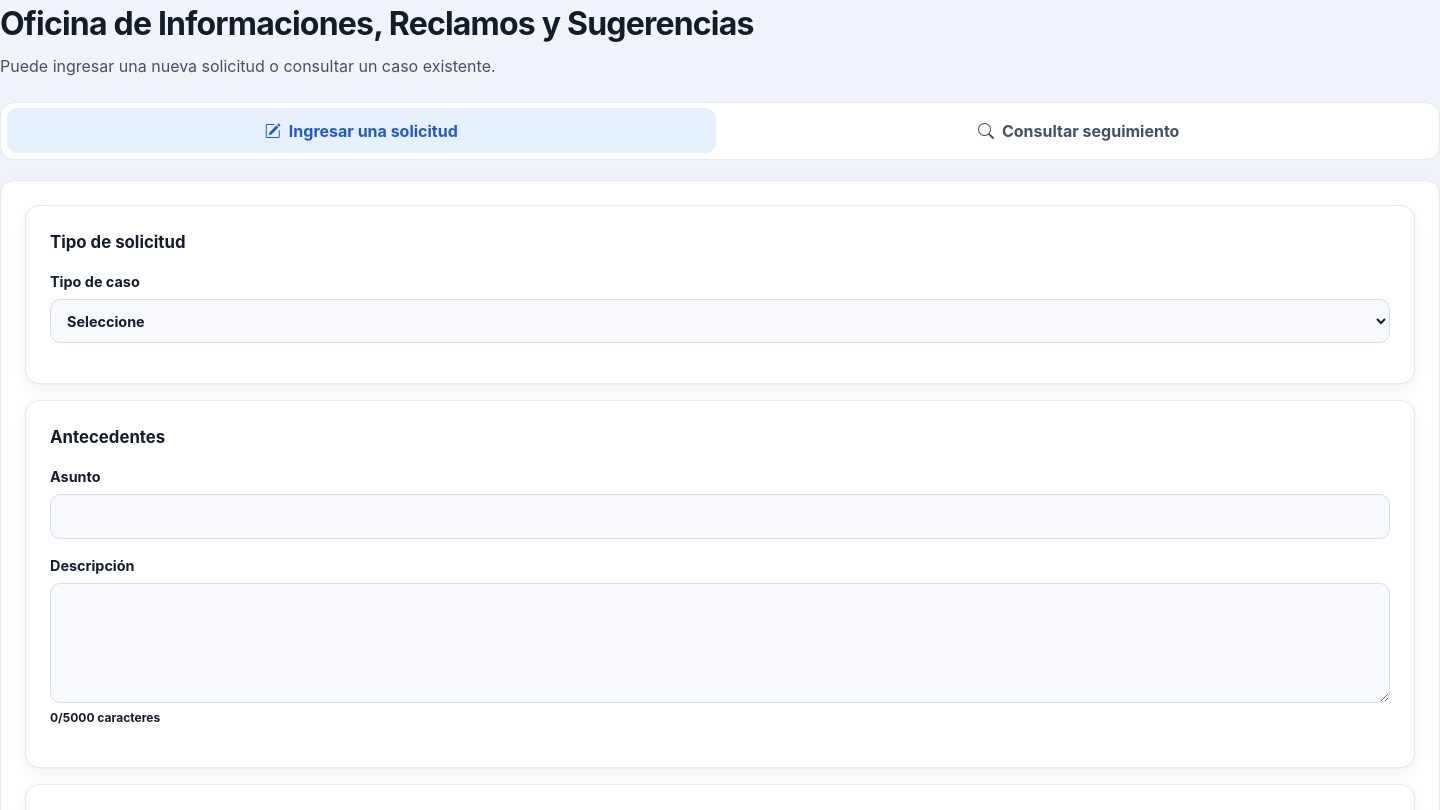
Test case: OirsPage - public › muestra error al fallar envio OIRS
Select "Reclamo" in the dropdown labelled "Tipo de caso" at (720, 321), box [50,299,1390,343]
Type "Asunto de prueba valido" into the field labelled "Asunto" at (720, 516), box [50,494,1390,539]
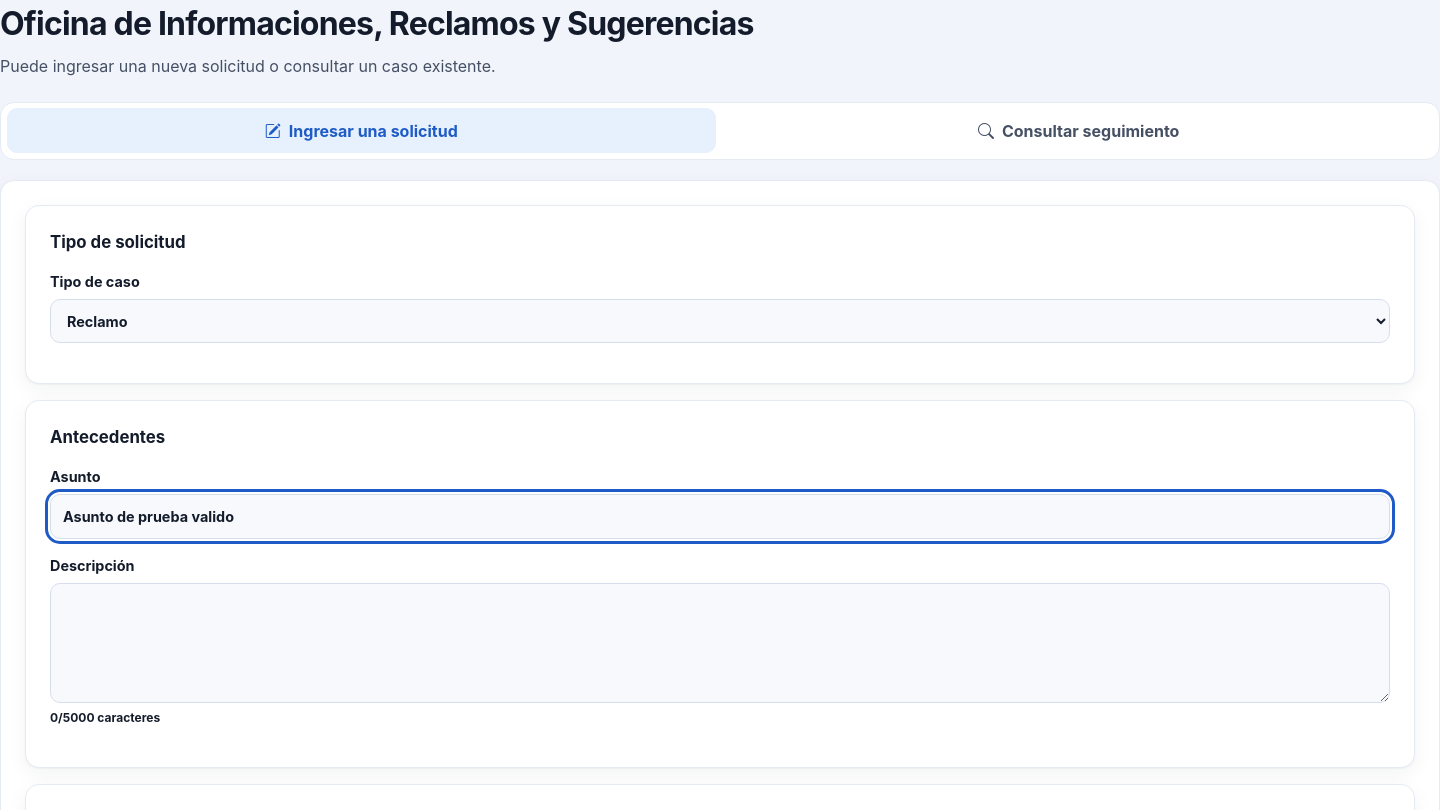
Type "Descripcion detallada de mi reclamo con mas de veinte caracteres" into the text box labelled "Descripción" at (720, 643), box [50,583,1390,703]
(page scrolled)
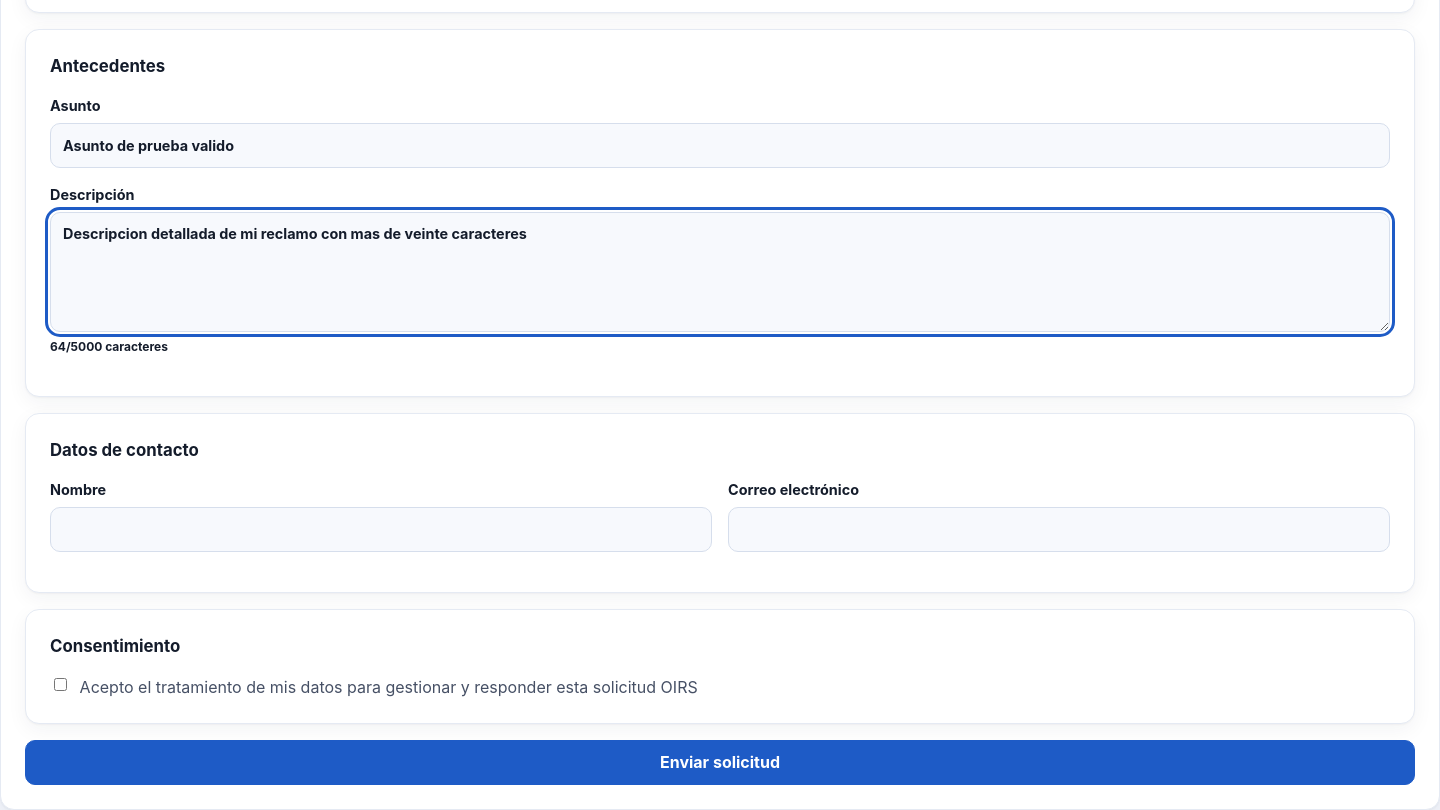
Type "Usuario QA" into the field labelled "Nombre" at (381, 530), box [50,507,712,552]
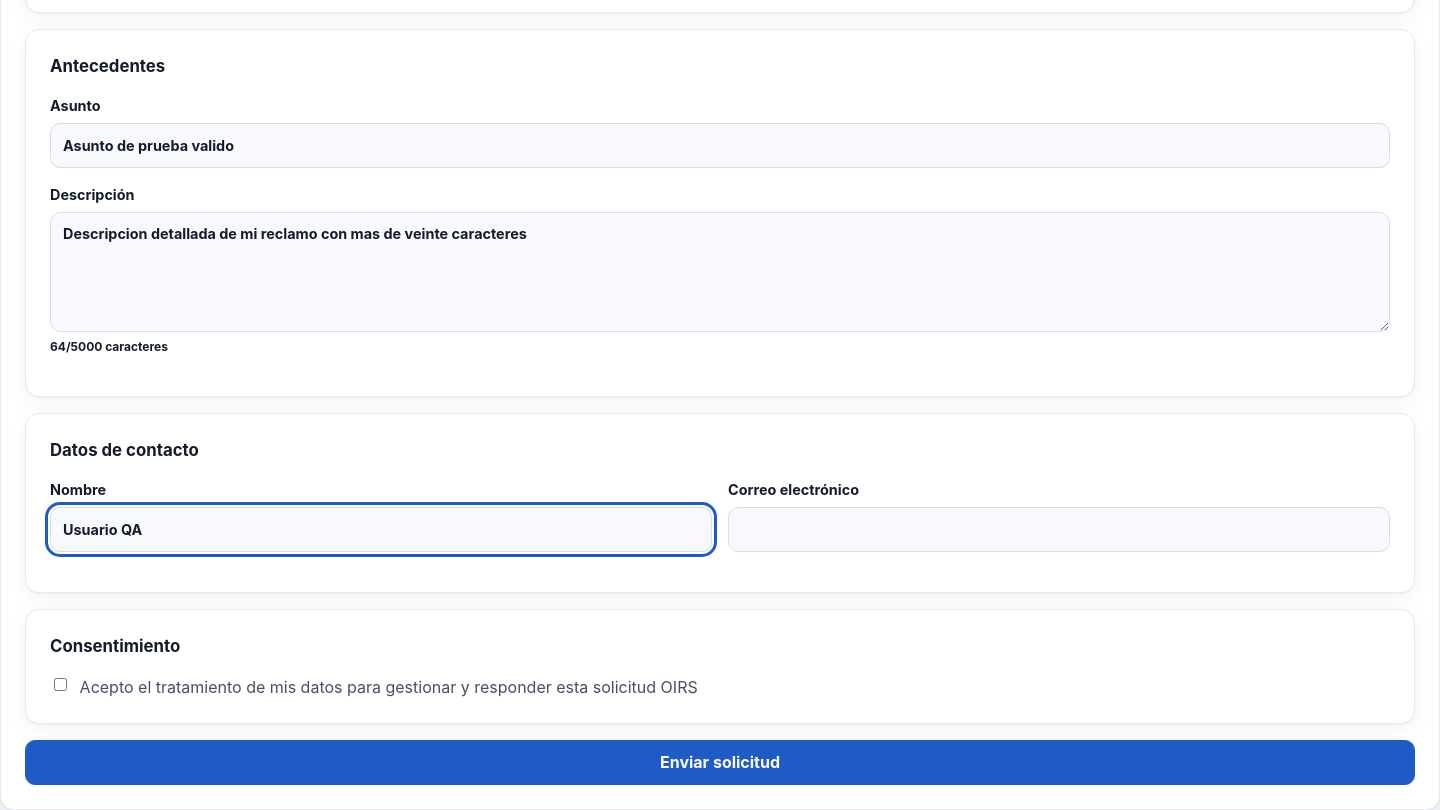
Type "qa@example.test" into the field labelled "Correo electrónico" at (1059, 530), box [728,507,1390,552]
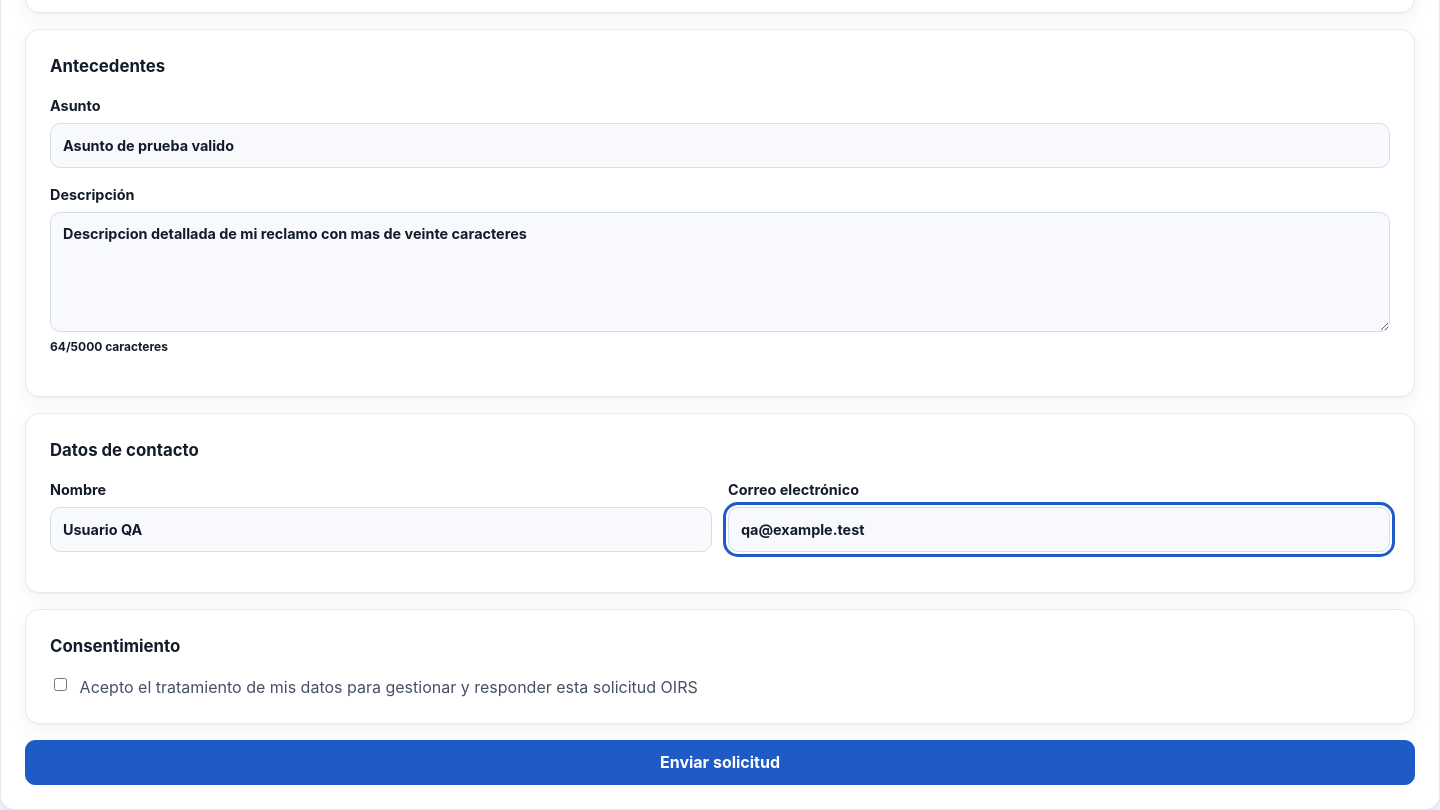
Click the checkbox named "Acepto el tratamiento de mis datos para gestionar y responder esta solicitud OIRS" at (60, 684), box [54,678,67,691]
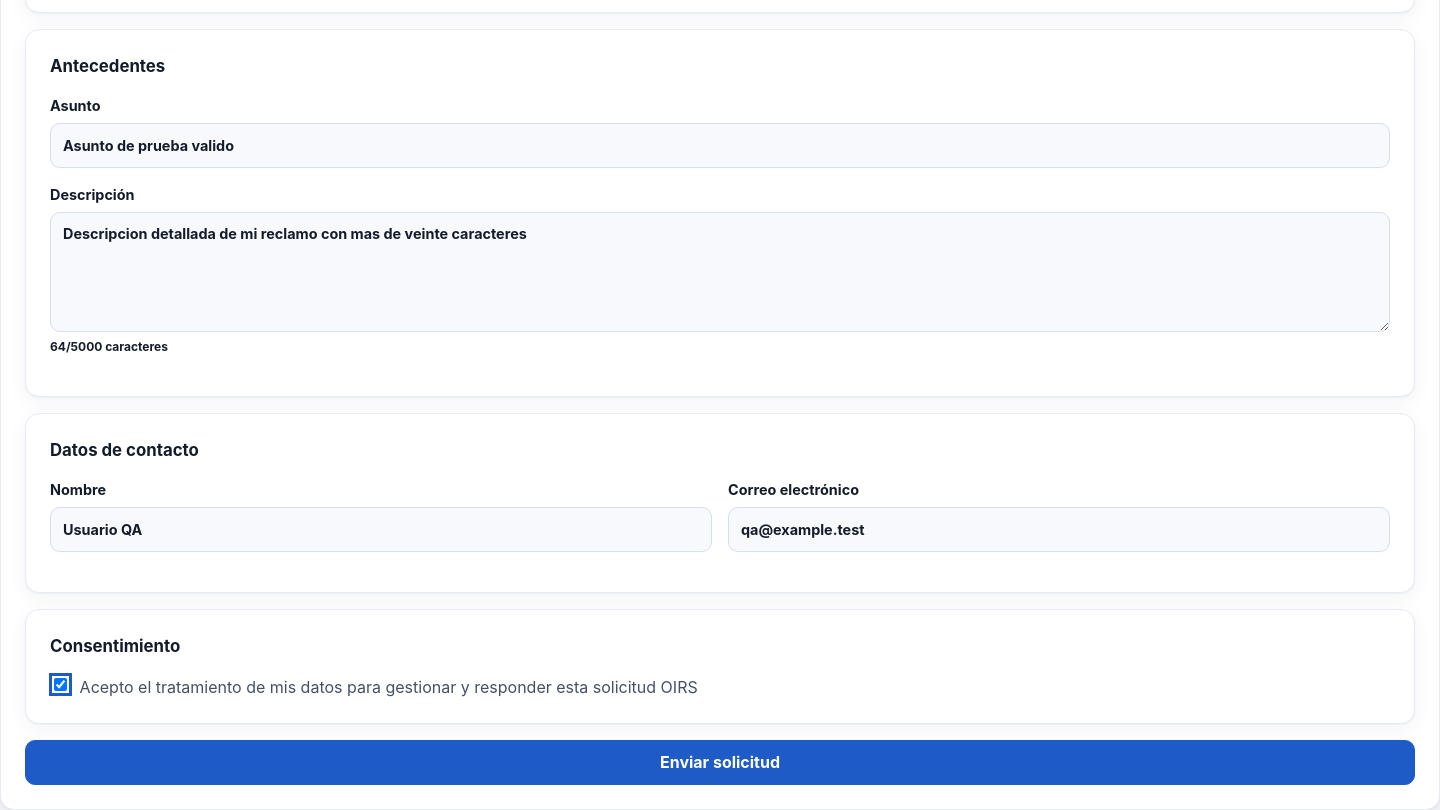
Click the button "Enviar solicitud" at (720, 762), box [25,740,1415,785]
(page scrolled)
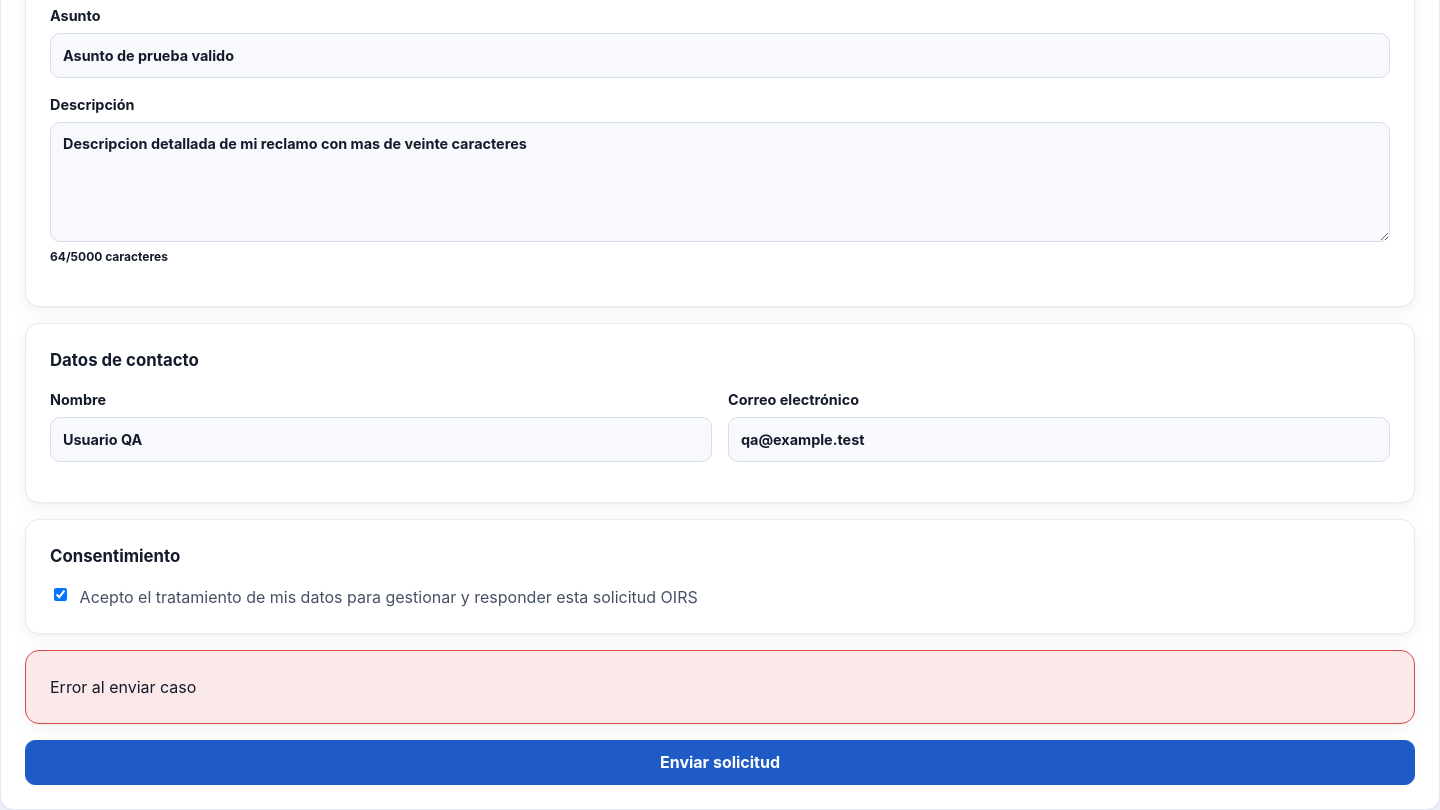
Now the text "Error al enviar caso" is shown, box [25,650,1415,724]
